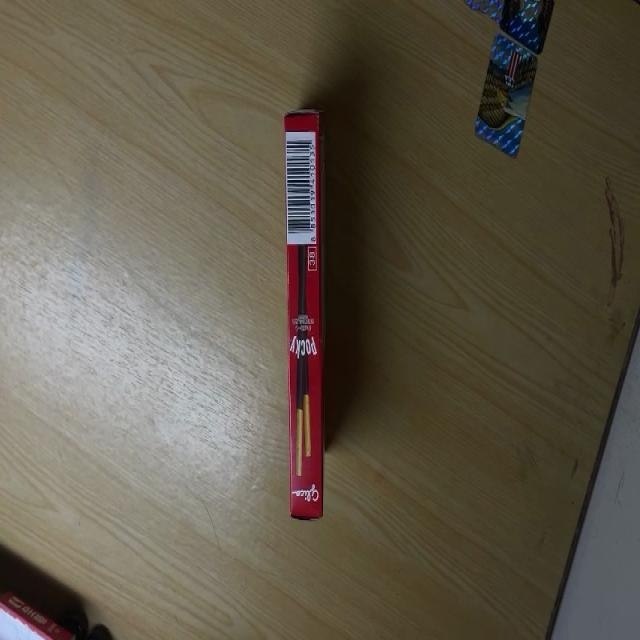Pocky: (284, 113, 326, 523)
